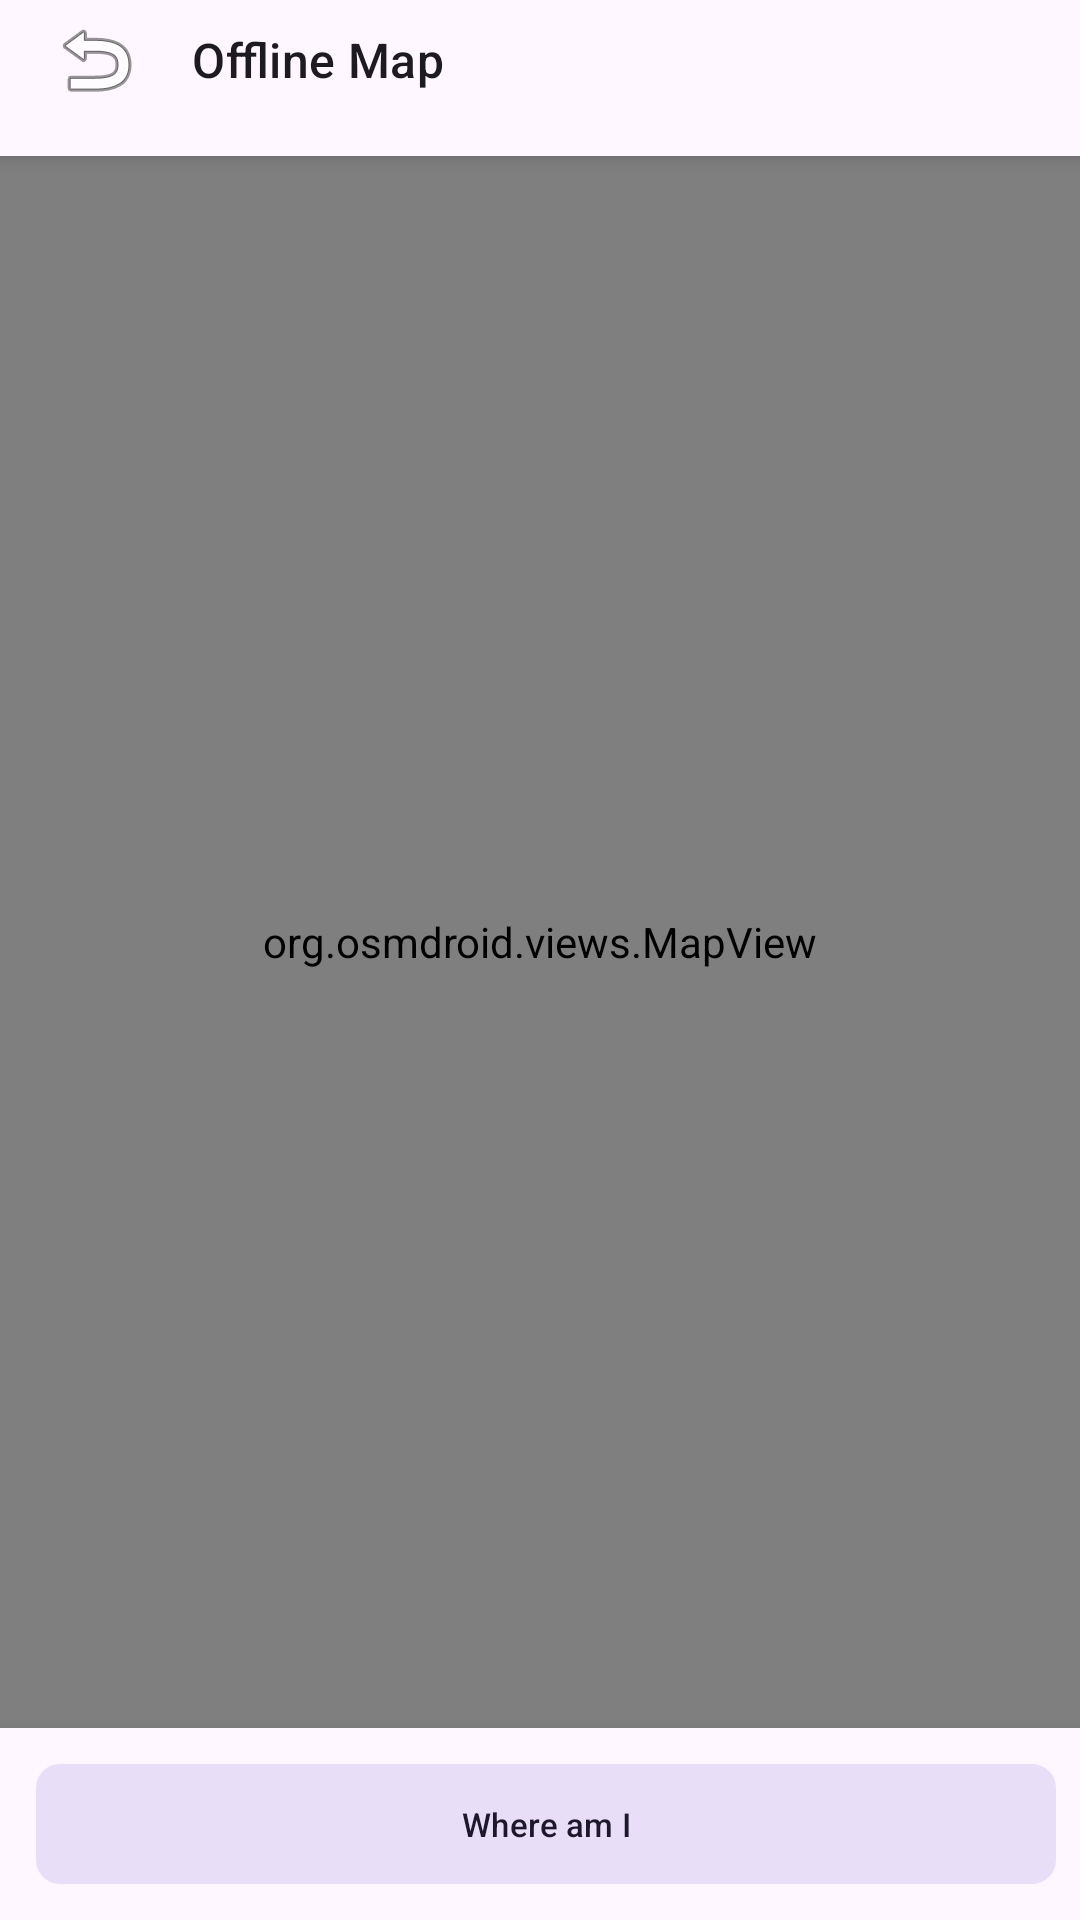

Icon bounding boxes for this 1080*1920 phone screenshot, format bbox(x1, y1, x2, y2):
Back: bbox(63, 29, 132, 92)
